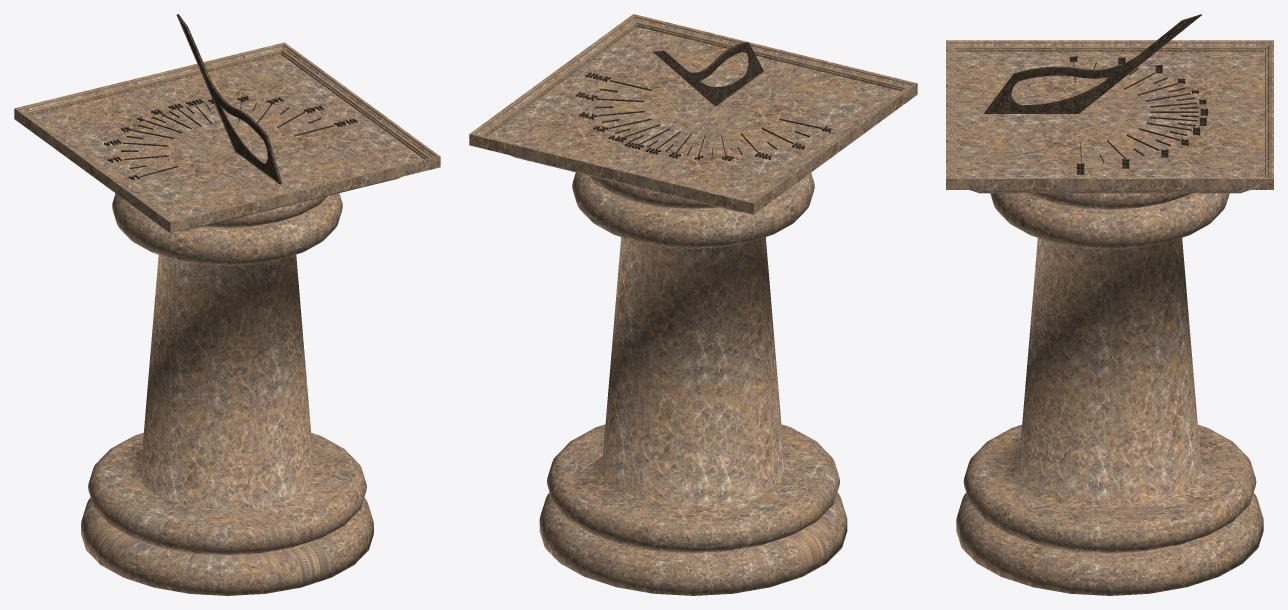
File: sundial.dae
The picture shows the model from 3 angles, left to right: view 1: azimuth 30°, elevation 25°; view 2: azimuth 150°, elevation 25°; view 3: azimuth 270°, elevation 25°; orthographic projection. The views are drawn at different scales.
Parts seen in each view (by area): view 1: Base (×3), group_1 (×5), group_0 (×2); view 2: Base (×3), group_1 (×5), group_0 (×2); view 3: Base (×3), group_1 (×6), group_0 (×2).
Boxes of the visible parts, box(x1,y1,x2,y2) form: Base (×3): box(81, 193, 373, 595); group_1 (×5): box(14, 42, 440, 233); group_0 (×2): box(176, 14, 282, 184); Base (×3): box(539, 172, 847, 595); group_1 (×5): box(469, 14, 917, 214); group_0 (×2): box(653, 42, 763, 105); Base (×3): box(956, 193, 1263, 595); group_1 (×6): box(946, 40, 1273, 193); group_0 (×2): box(984, 14, 1201, 113).
Size of the model in its own units: 21.6 by 21.6 by 37.33.
5 materials, 4 textured.
